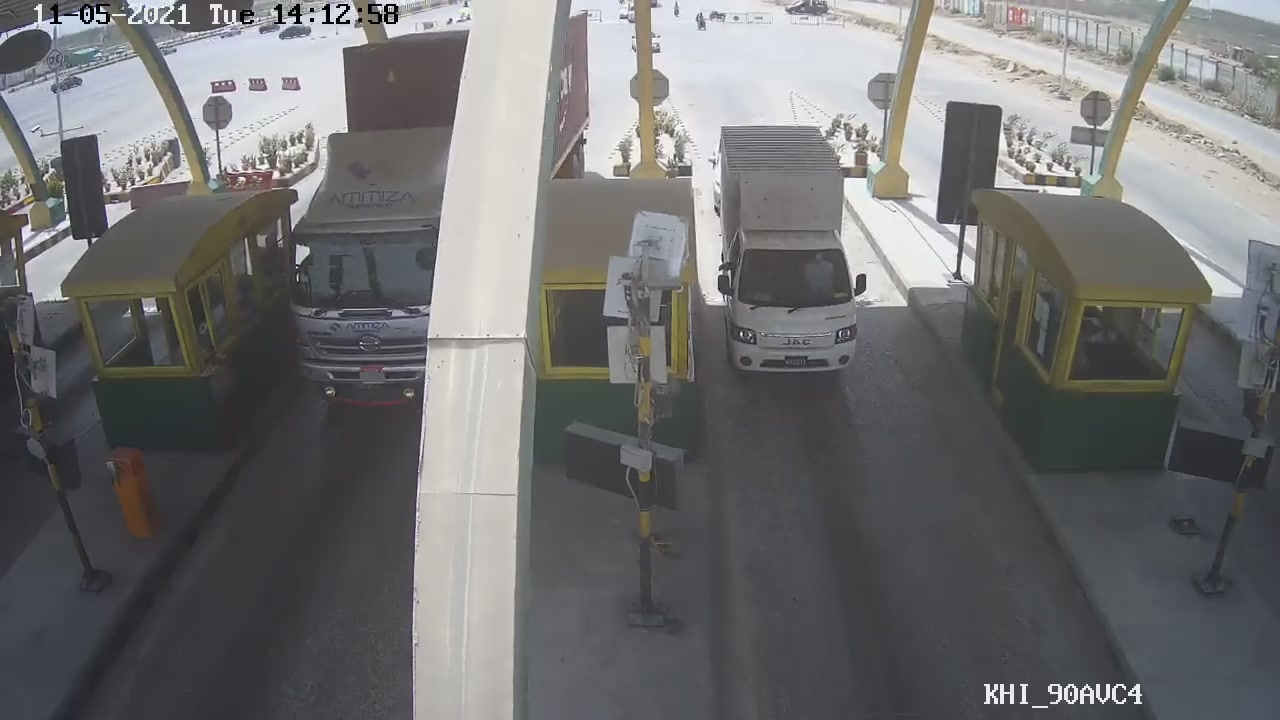F2: (704, 115, 876, 382)
